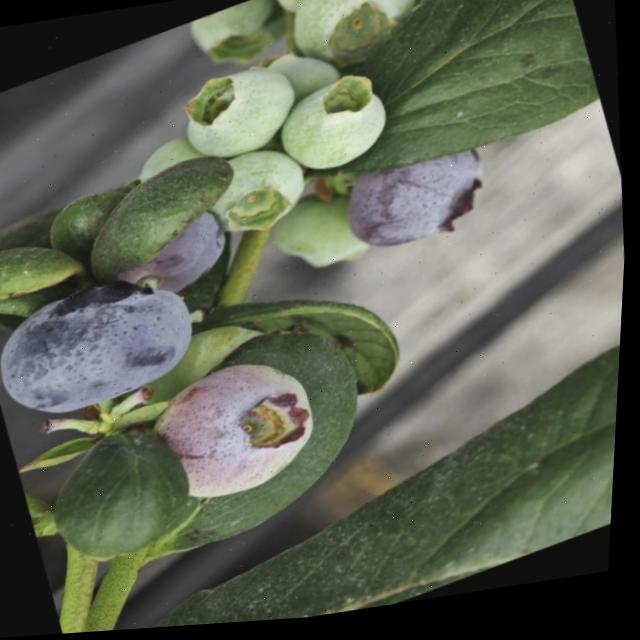RipeBlueBerry: (0, 243, 217, 434)
Semi-RipeBlueBerry: (132, 338, 353, 531)
UnripeBlueBerry: (265, 69, 401, 192)
